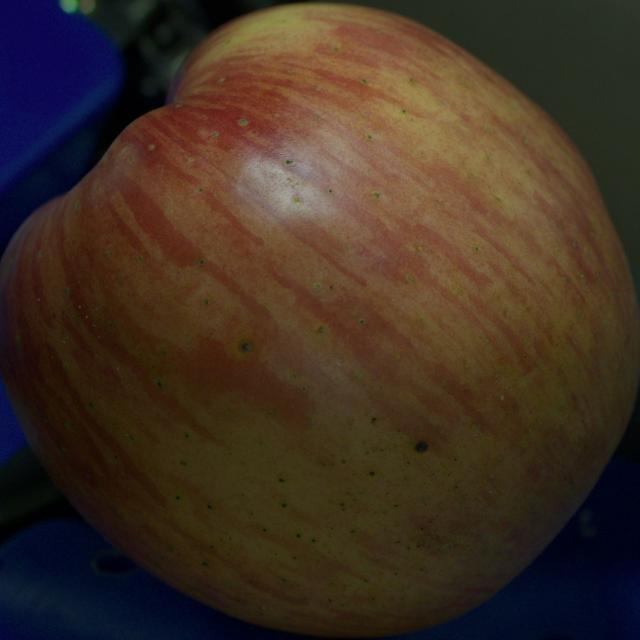apple: (0, 6, 639, 635)
pest: (415, 441, 428, 452), (241, 342, 251, 352)
